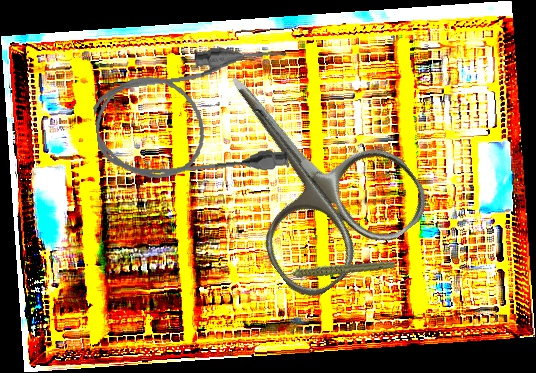Cannula: (87, 39, 301, 191)
Handpiece: (274, 241, 397, 295)
Iris Scissors: (169, 27, 438, 308)
